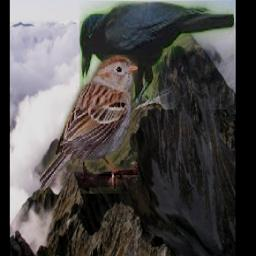Crow: (80, 2, 235, 110)
Sparrow: (41, 56, 139, 195)
